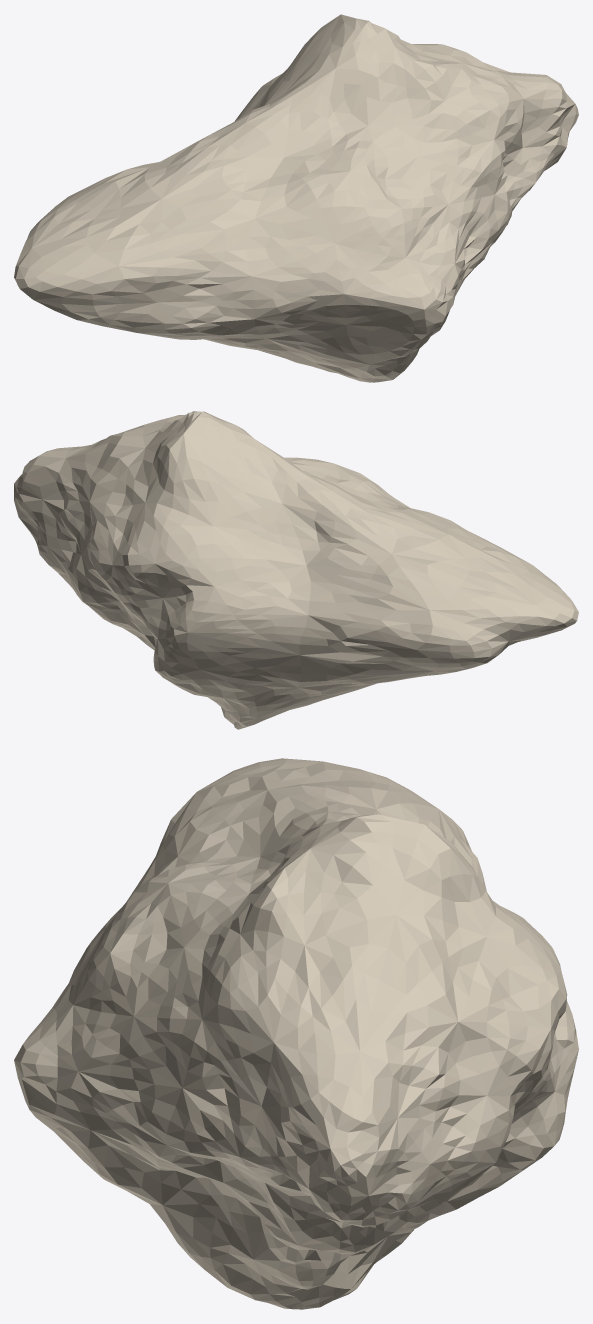
Rendered from astroid 4.fbx.
3 renders of one model, top to bottom at view 1: azimuth 30°, elevation 25°; view 2: azimuth 150°, elevation 25°; view 3: azimuth 270°, elevation 25°, orthographic. The views are drawn at different scales.
Visible parts, largest first — view 1: Astroid_4; view 2: Astroid_4; view 3: Astroid_4.
Part boxes in pixels (x1,y1,x2,y2): Astroid_4: [14, 14, 578, 382]; Astroid_4: [14, 411, 578, 729]; Astroid_4: [14, 758, 578, 1309].
Bounding box in the file's own units: 596 × 333 × 334.
